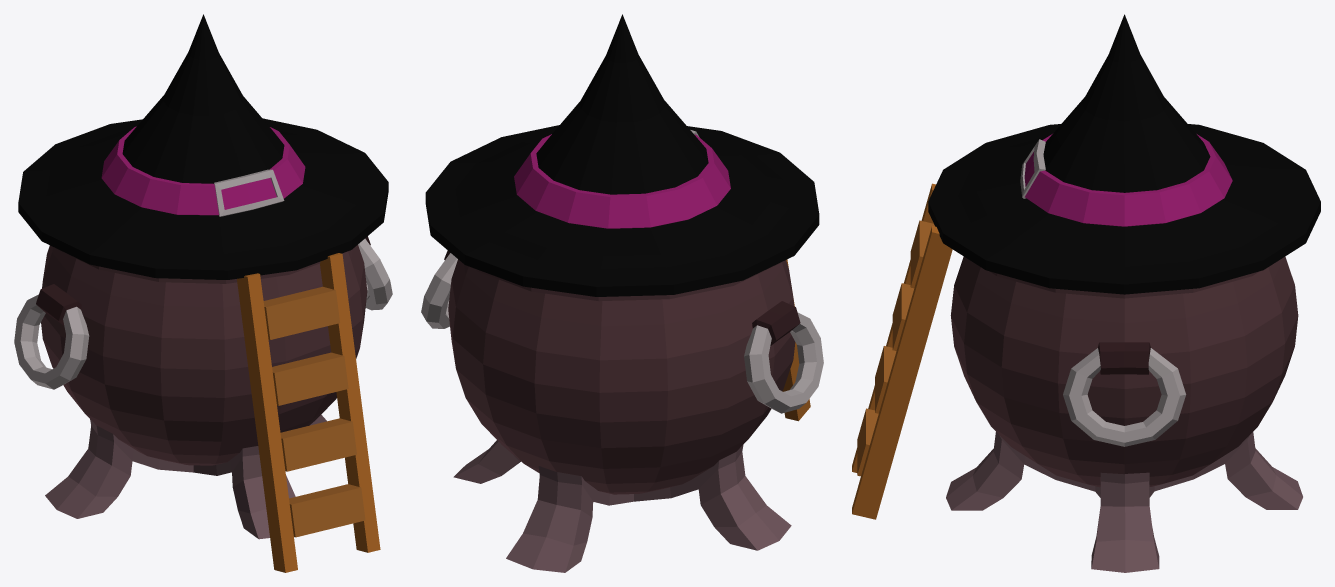
File: Witch_Cauldron.fbx
3 views of the same model, side by side, from view 1: azimuth 30°, elevation 25°; view 2: azimuth 150°, elevation 25°; view 3: azimuth 270°, elevation 25° (orthographic). The views are drawn at different scales.
Parts seen in each view (by area): view 1: Hat, Witch_Cauldron, Ladder; view 2: Witch_Cauldron, Hat, Ladder; view 3: Witch_Cauldron, Hat, Ladder.
Part boxes in pixels (<box>): Hat: <box>18,14,388,279</box>; Witch_Cauldron: <box>14,236,392,539</box>; Ladder: <box>237,253,380,572</box>; Witch_Cauldron: <box>421,250,823,572</box>; Hat: <box>425,14,819,296</box>; Ladder: <box>782,259,810,421</box>; Witch_Cauldron: <box>946,256,1302,572</box>; Hat: <box>928,14,1320,294</box>; Ladder: <box>852,183,952,519</box>.
Size of the model in its own units: 3.85 by 4.89 by 4.29.
